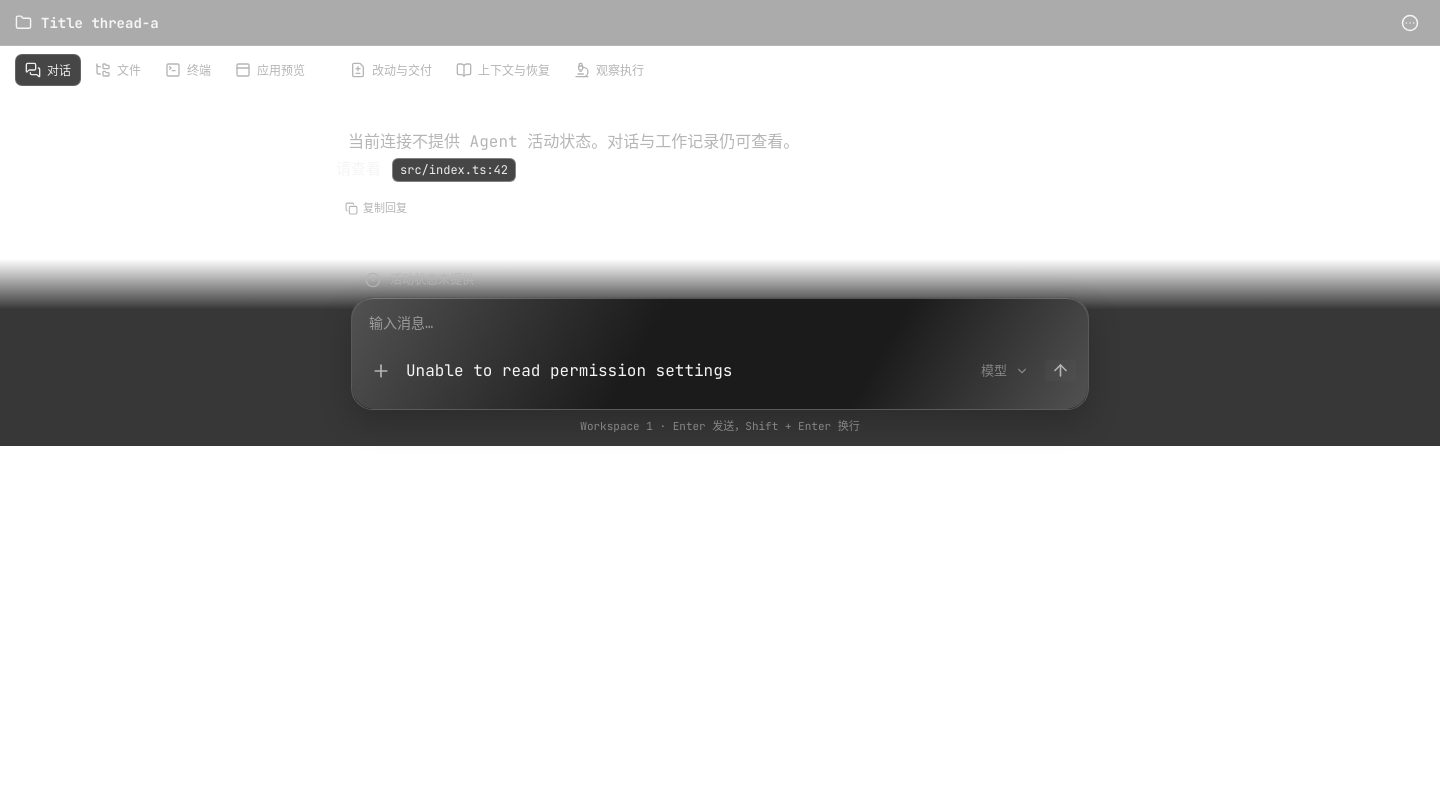
it: V2Conversation › intercepts project file links in assistant messages and opens the workspace file drawer
This screenshot has width=1440, height=810.
Click the link "src/index.ts:42" at (454, 170), box [392,158,516,182]
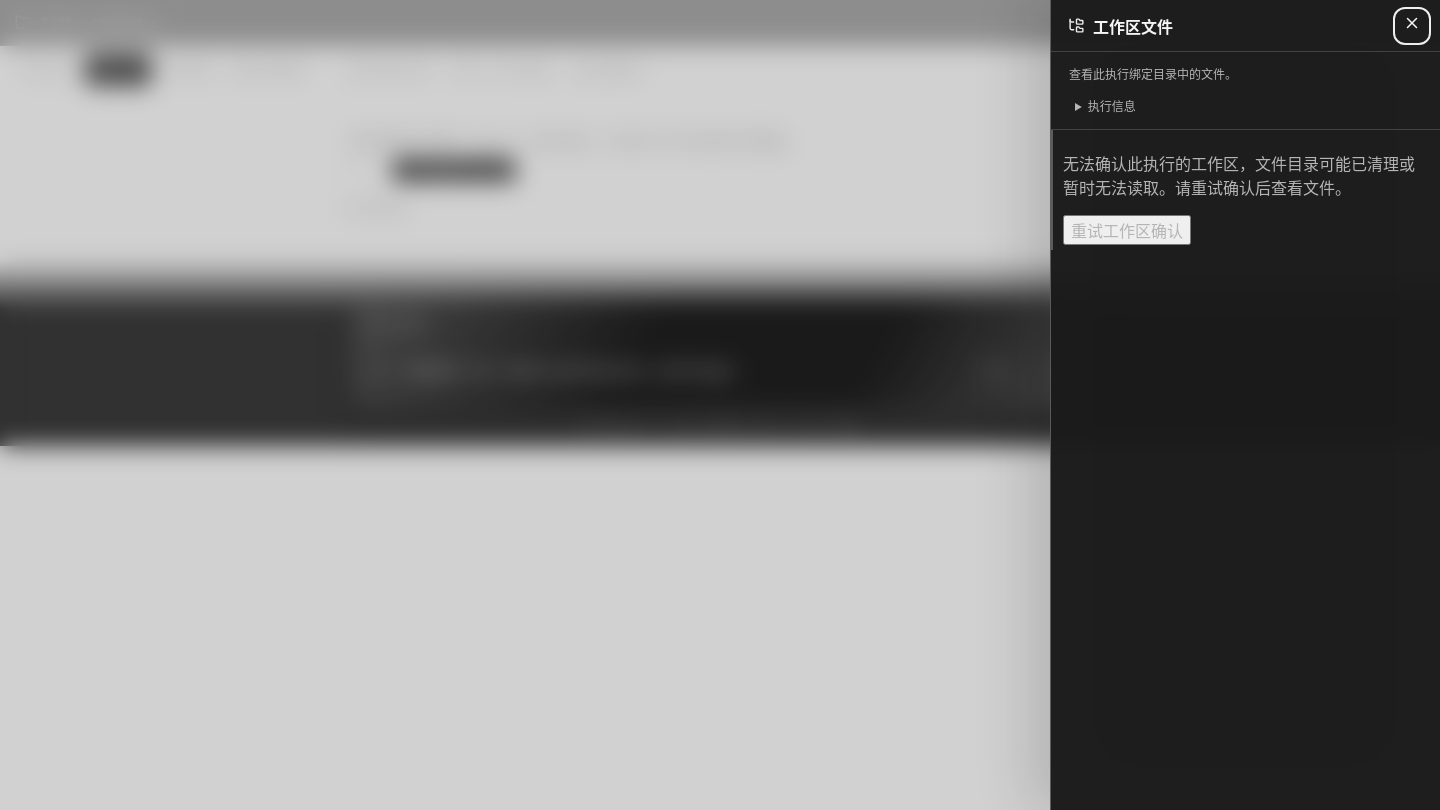
Expected: the dialog "工作区文件" is shown, [1050,0,1439,809]
